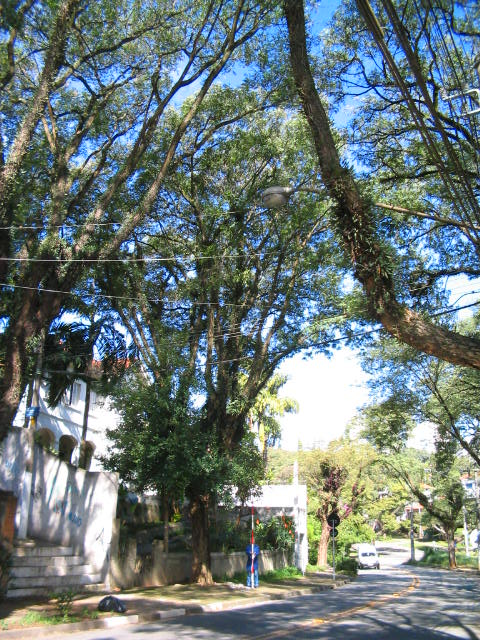stem: (167, 474, 229, 584)
stick: (245, 501, 257, 590)
tree: (86, 95, 357, 583)
